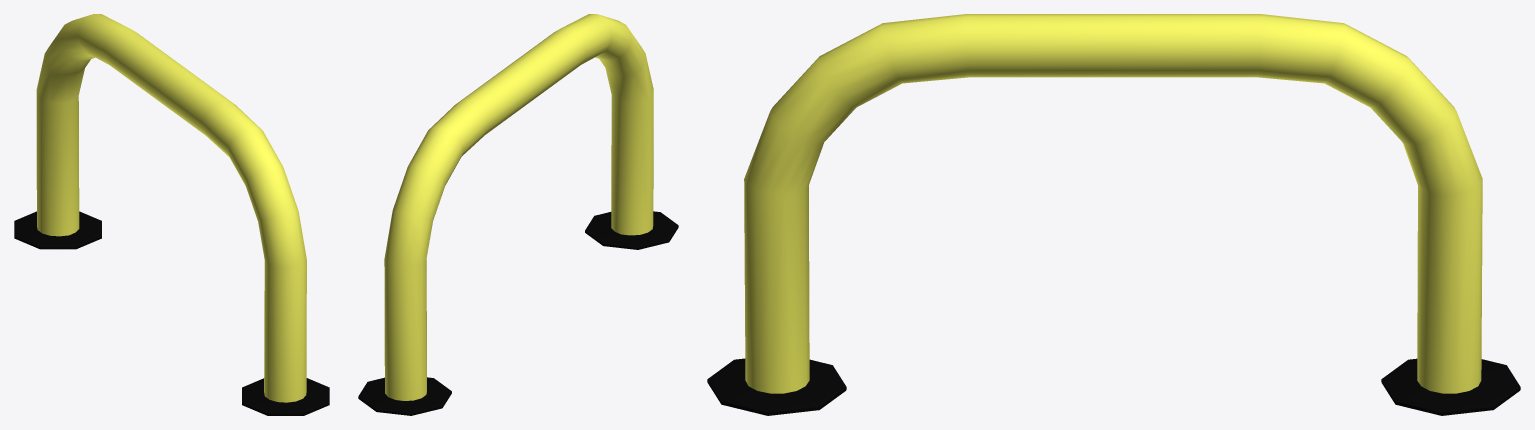
The picture shows the model from 3 angles, left to right: view 1: azimuth 30°, elevation 25°; view 2: azimuth 150°, elevation 25°; view 3: azimuth 270°, elevation 25°; orthographic projection. The views are drawn at different scales.
Visible parts, largest first — view 1: Joint_0_Object_0, Joint_0_Object_1; view 2: Joint_0_Object_0, Joint_0_Object_1; view 3: Joint_0_Object_0, Joint_0_Object_1.
Part boxes in pixels (box(x1,y1,x2,y2)): Joint_0_Object_0: box(36, 14, 306, 402); Joint_0_Object_1: box(14, 211, 329, 415); Joint_0_Object_0: box(384, 14, 653, 400); Joint_0_Object_1: box(358, 211, 678, 415); Joint_0_Object_0: box(744, 14, 1482, 393); Joint_0_Object_1: box(707, 358, 1520, 415).
Bounding box in the file's own units: 272 × 793 × 1584.
2 materials, 1 textured.
